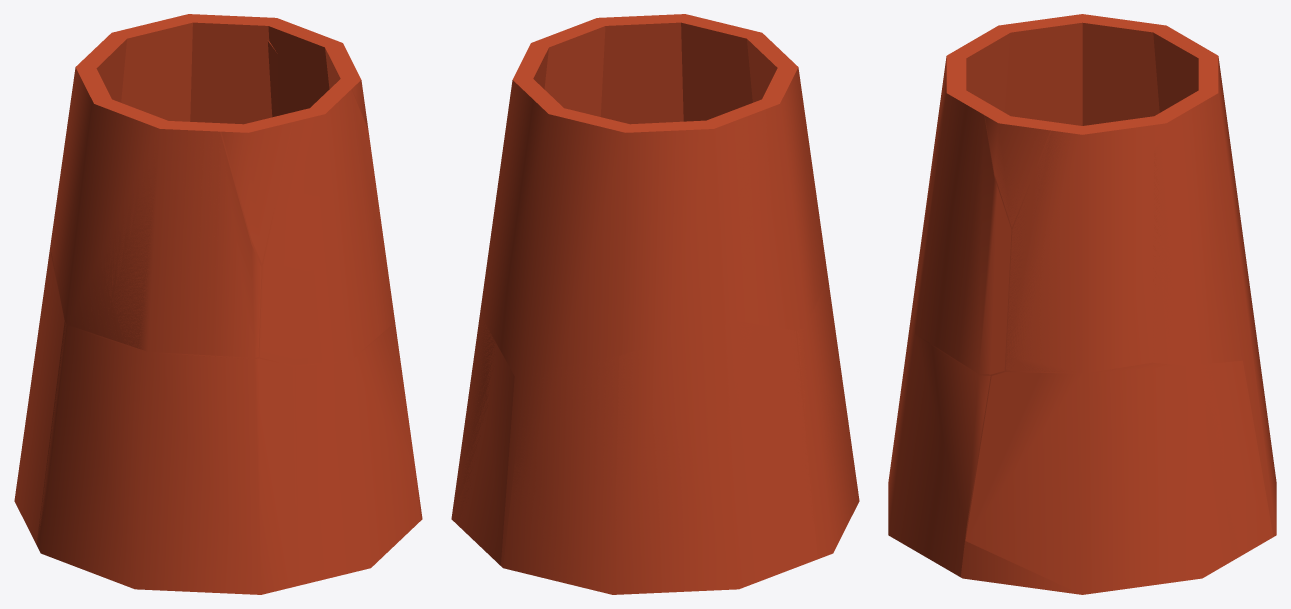
File: P_PotBrosseADent_Colored_Breakable.fbx
3 views of the same model, side by side, from view 1: azimuth 30°, elevation 25°; view 2: azimuth 150°, elevation 25°; view 3: azimuth 270°, elevation 25° (orthographic).
Parts seen in each view (by area): view 1: P_PotBrosseADent_Colored_Breakable_cell.004, P_PotBrosseADent_Colored_Breakable_cell.008, P_PotBrosseADent_Colored_Breakable_cell.011, P_PotBrosseADent_Colored_Breakable_cell.010, P_PotBrosseADent_Colored_Breakable, P_PotBrosseADent_Colored_Breakable_cell.006, P_PotBrosseADent_Colored_Breakable_cell.005, P_PotBrosseADent_Colored_Breakable_cell.002, P_PotBrosseADent_Colored_Breakable_cell.007, P_PotBrosseADent_Colored_Breakable_cell.009, P_PotBrosseADent_Colored_Breakable_cell.003, P_PotBrosseADent_Colored_Breakable_cell; view 2: P_PotBrosseADent_Colored_Breakable, P_PotBrosseADent_Colored_Breakable_cell.002, P_PotBrosseADent_Colored_Breakable_cell.001, P_PotBrosseADent_Colored_Breakable_cell.004, P_PotBrosseADent_Colored_Breakable_cell.008, P_PotBrosseADent_Colored_Breakable_cell.006, P_PotBrosseADent_Colored_Breakable_cell.009, P_PotBrosseADent_Colored_Breakable_cell.011, P_PotBrosseADent_Colored_Breakable_cell.003; view 3: P_PotBrosseADent_Colored_Breakable, P_PotBrosseADent_Colored_Breakable_cell.001, P_PotBrosseADent_Colored_Breakable_cell.011, P_PotBrosseADent_Colored_Breakable_cell.010, P_PotBrosseADent_Colored_Breakable_cell.009, P_PotBrosseADent_Colored_Breakable_cell.008, P_PotBrosseADent_Colored_Breakable_cell.003, P_PotBrosseADent_Colored_Breakable_cell.006, P_PotBrosseADent_Colored_Breakable_cell.005, P_PotBrosseADent_Colored_Breakable_cell.002, P_PotBrosseADent_Colored_Breakable_cell.004.
Boxes of the visible parts, box(x1,y1,x2,y2) form: P_PotBrosseADent_Colored_Breakable_cell.004: box(37, 322, 296, 594); P_PotBrosseADent_Colored_Breakable_cell.008: box(68, 93, 261, 357); P_PotBrosseADent_Colored_Breakable_cell.011: box(259, 88, 394, 365); P_PotBrosseADent_Colored_Breakable_cell.010: box(294, 323, 421, 585); P_PotBrosseADent_Colored_Breakable: box(36, 15, 422, 585); P_PotBrosseADent_Colored_Breakable_cell.006: box(76, 14, 217, 121); P_PotBrosseADent_Colored_Breakable_cell.005: box(183, 15, 278, 124); P_PotBrosseADent_Colored_Breakable_cell.002: box(14, 250, 64, 544); P_PotBrosseADent_Colored_Breakable_cell.007: box(221, 117, 292, 263); P_PotBrosseADent_Colored_Breakable_cell.009: box(278, 27, 349, 113); P_PotBrosseADent_Colored_Breakable_cell.003: box(331, 57, 368, 128); P_PotBrosseADent_Colored_Breakable_cell: box(248, 17, 300, 52); P_PotBrosseADent_Colored_Breakable: box(451, 17, 859, 594); P_PotBrosseADent_Colored_Breakable_cell.002: box(503, 320, 817, 594); P_PotBrosseADent_Colored_Breakable_cell.001: box(452, 317, 514, 565); P_PotBrosseADent_Colored_Breakable_cell.004: box(797, 278, 853, 504); P_PotBrosseADent_Colored_Breakable_cell.008: box(735, 81, 802, 295); P_PotBrosseADent_Colored_Breakable_cell.006: box(539, 98, 713, 132); P_PotBrosseADent_Colored_Breakable_cell.009: box(520, 34, 585, 113); P_PotBrosseADent_Colored_Breakable_cell.011: box(622, 14, 716, 29); P_PotBrosseADent_Colored_Breakable_cell.003: box(556, 17, 628, 39); P_PotBrosseADent_Colored_Breakable: box(889, 14, 1276, 594); P_PotBrosseADent_Colored_Breakable_cell.001: box(965, 360, 1273, 594); P_PotBrosseADent_Colored_Breakable_cell.011: box(915, 75, 1011, 374); P_PotBrosseADent_Colored_Breakable_cell.010: box(888, 300, 990, 576); P_PotBrosseADent_Colored_Breakable_cell.009: box(1006, 120, 1133, 372); P_PotBrosseADent_Colored_Breakable_cell.008: box(918, 23, 1156, 262); P_PotBrosseADent_Colored_Breakable_cell.003: box(985, 108, 1056, 227); P_PotBrosseADent_Colored_Breakable_cell.006: box(1153, 25, 1218, 114); P_PotBrosseADent_Colored_Breakable_cell.005: box(1153, 99, 1203, 360); P_PotBrosseADent_Colored_Breakable_cell.002: box(1246, 264, 1276, 534); P_PotBrosseADent_Colored_Breakable_cell.004: box(888, 266, 917, 498).
Bounding box in the file's own units: 71.34 × 83.77 × 67.85.
